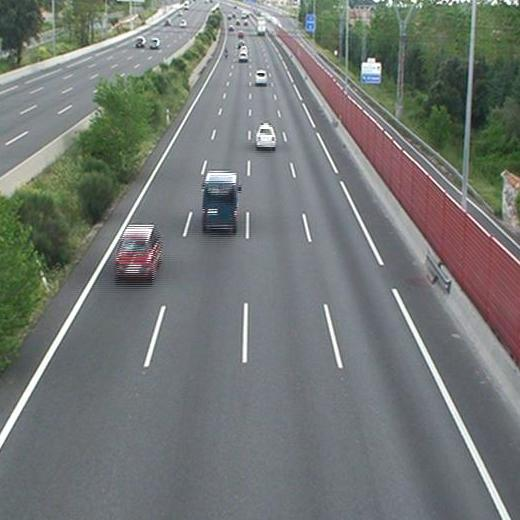car: (115, 224, 161, 276), (255, 126, 276, 148), (254, 71, 267, 85), (240, 52, 249, 61)
motorcycle: (222, 45, 230, 58)
van: (202, 171, 238, 228)
